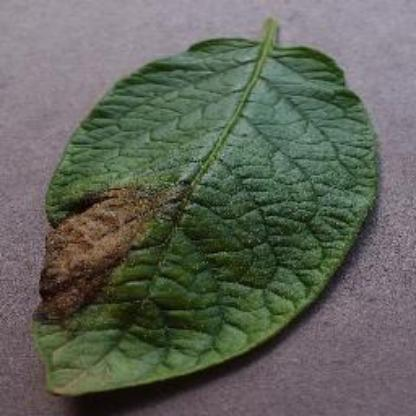Late-Blight: (42, 20, 388, 396)
